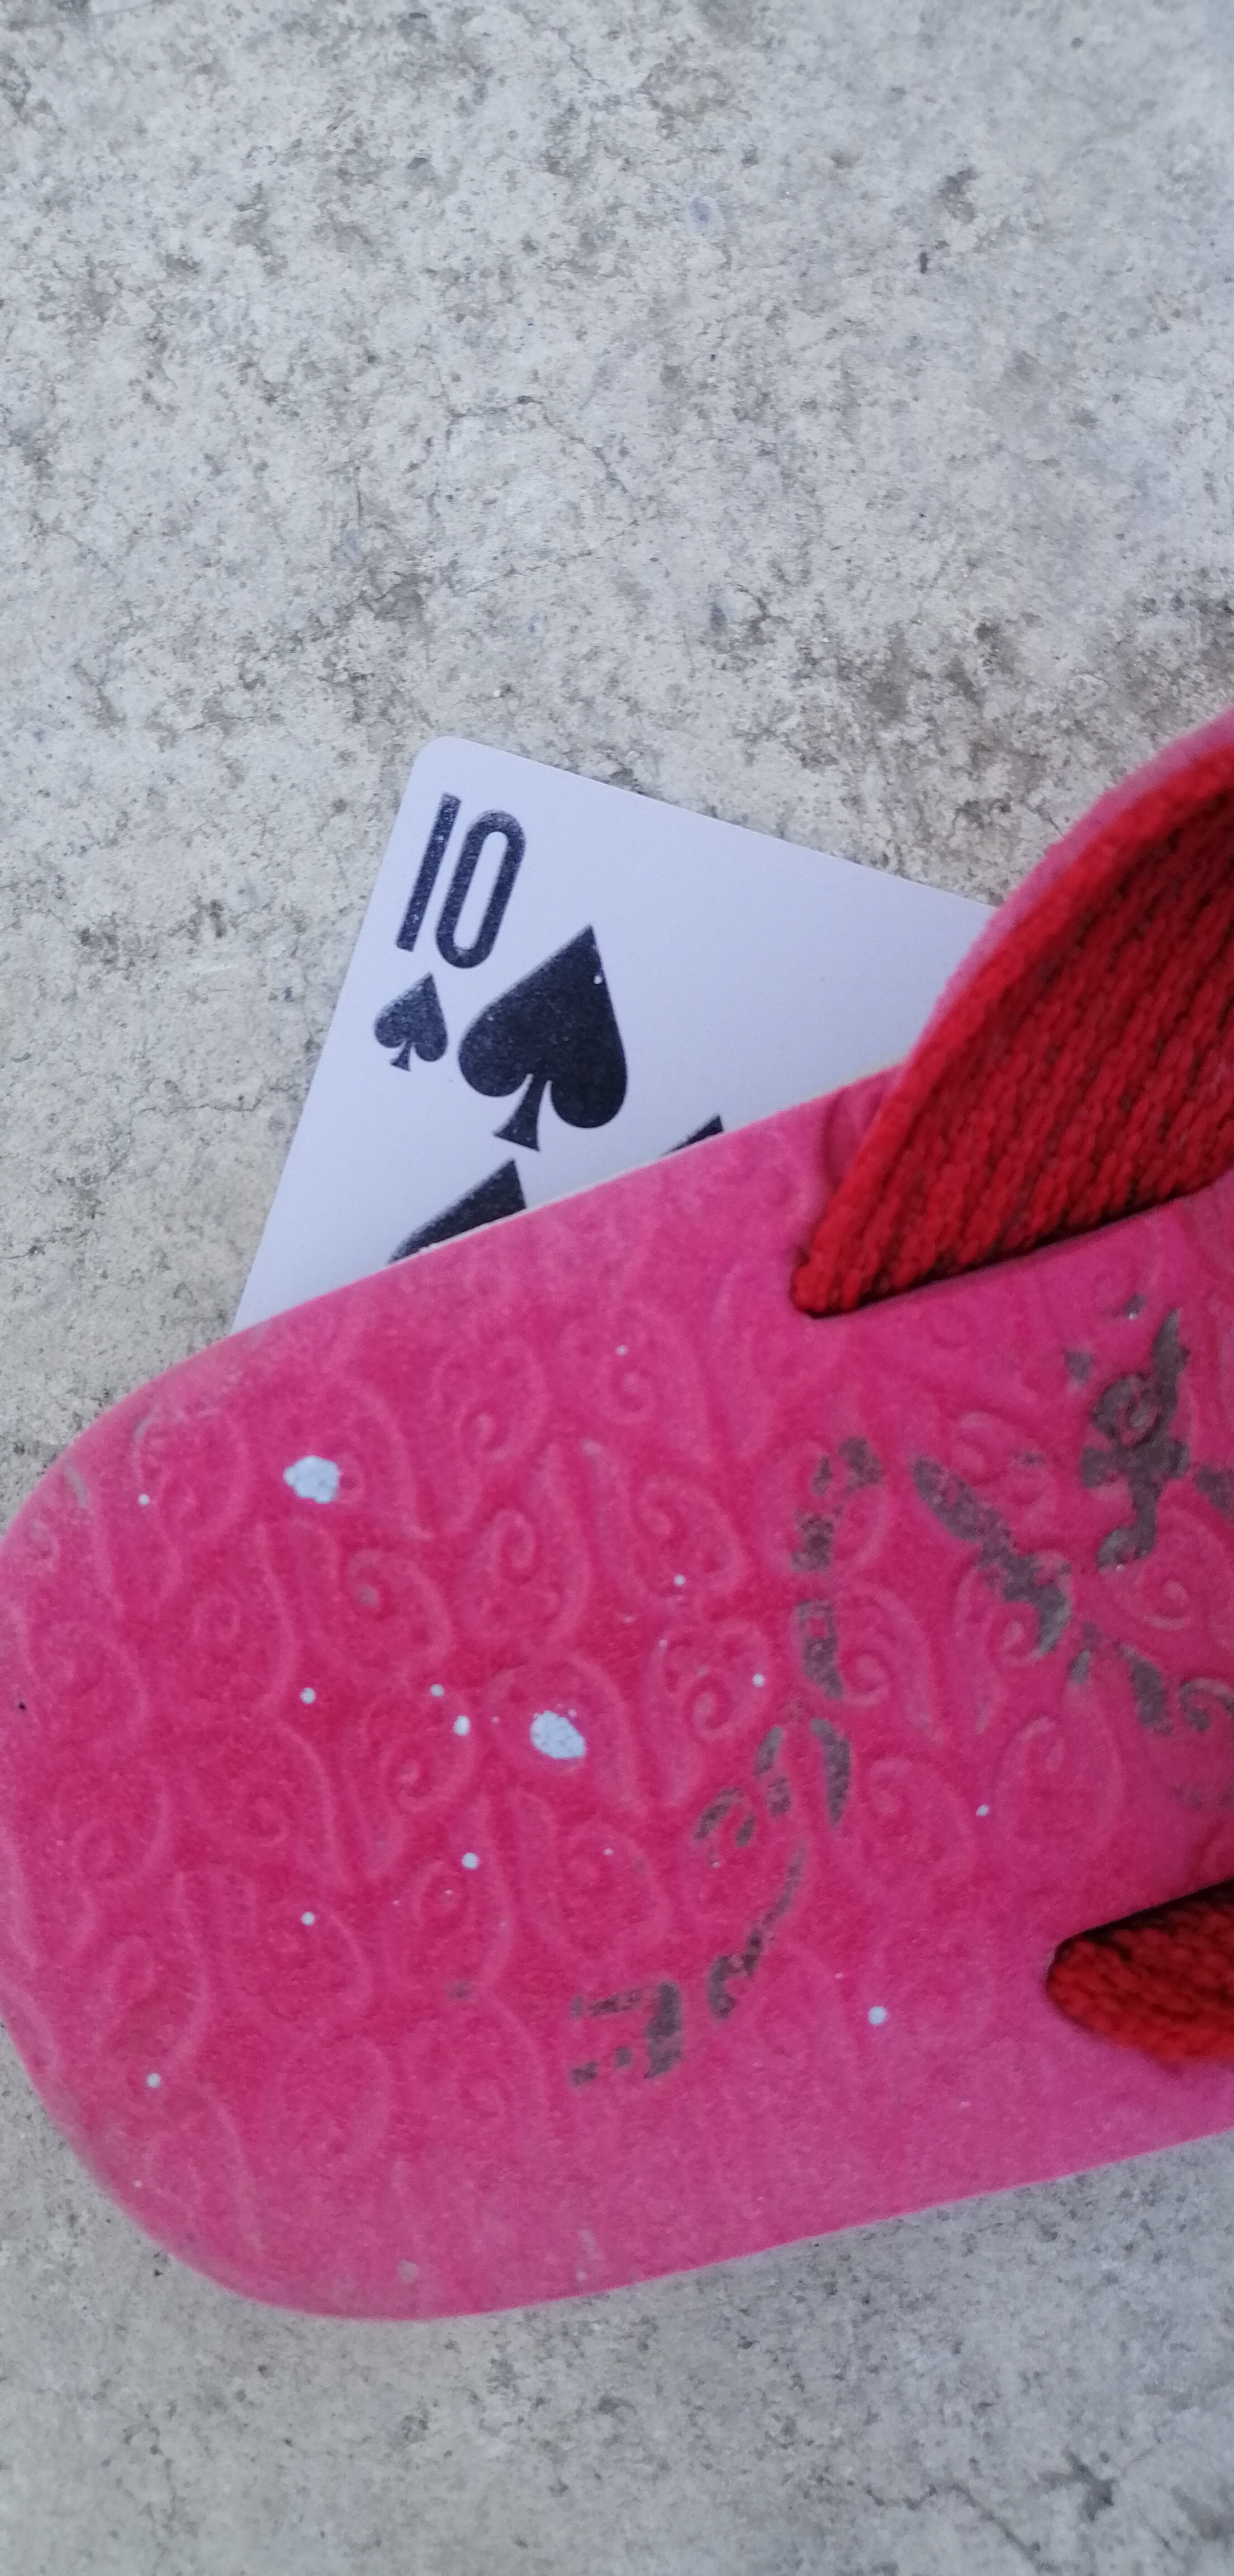ten: (227, 715, 1006, 1346)
